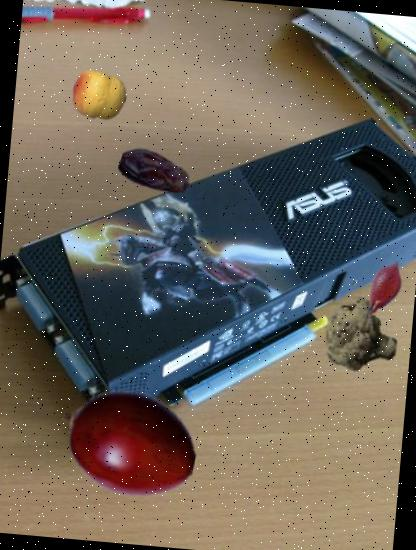Apple: (70, 67, 128, 126)
Cauliflower: (320, 292, 405, 377)
Dates: (116, 132, 195, 211)
Salak: (354, 255, 416, 318)
Tamarillo: (52, 368, 204, 520)
